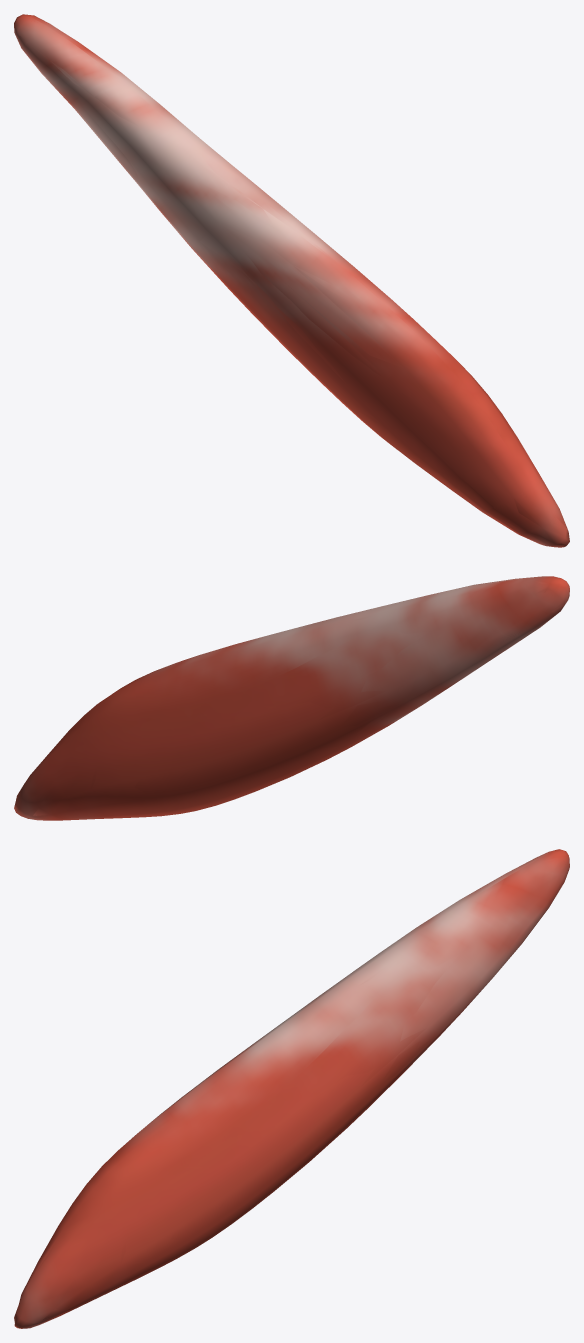
Rendered from L Quadriceps Femoris.fbx.
3 renders of one model, top to bottom at view 1: azimuth 30°, elevation 25°; view 2: azimuth 210°, elevation 25°; view 3: azimuth 270°, elevation 25°, orthographic. The views are drawn at different scales.
Parts seen in each view (by area): view 1: L Quadriceps Femoris, L Quadriceps Femoris low; view 2: L Quadriceps Femoris, L Quadriceps Femoris low; view 3: L Quadriceps Femoris, L Quadriceps Femoris low.
Boxes of the visible parts, bbox=[...] form: L Quadriceps Femoris: bbox=[14, 14, 569, 547]; L Quadriceps Femoris low: bbox=[15, 17, 568, 542]; L Quadriceps Femoris: bbox=[14, 576, 569, 820]; L Quadriceps Femoris low: bbox=[16, 580, 568, 820]; L Quadriceps Femoris: bbox=[14, 849, 569, 1328]; L Quadriceps Femoris low: bbox=[15, 850, 568, 1323].
Size of the model in its own units: 6.27 by 8.6 by 11.9.
